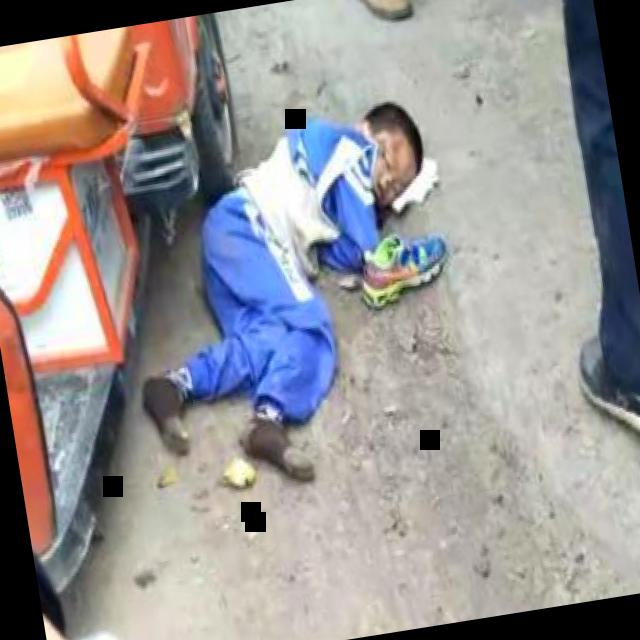Fall-Detected: (78, 79, 489, 513)
